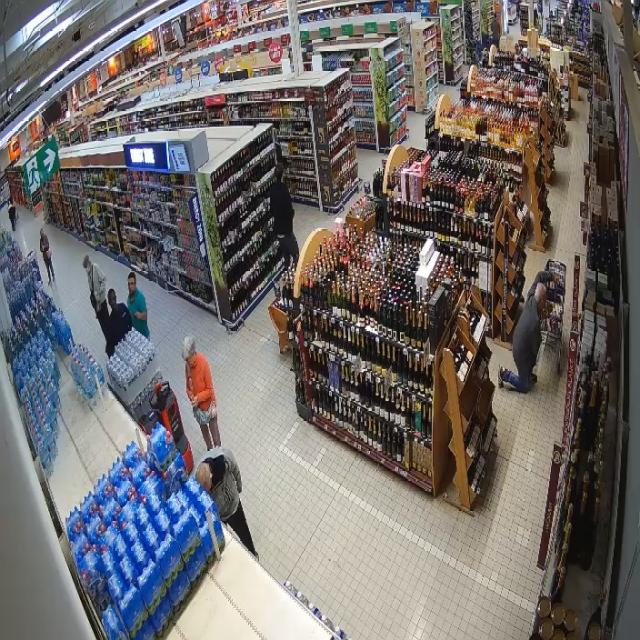bags: (193, 401, 217, 424), (90, 266, 97, 308), (44, 248, 52, 259)
hands: (190, 396, 198, 406), (551, 275, 559, 284), (188, 391, 193, 401), (95, 305, 99, 314), (135, 313, 141, 319)
person: (196, 447, 258, 557), (499, 272, 554, 393), (182, 336, 220, 448), (270, 163, 299, 268), (83, 256, 109, 341), (106, 289, 131, 356), (128, 272, 149, 337), (40, 228, 54, 283)
